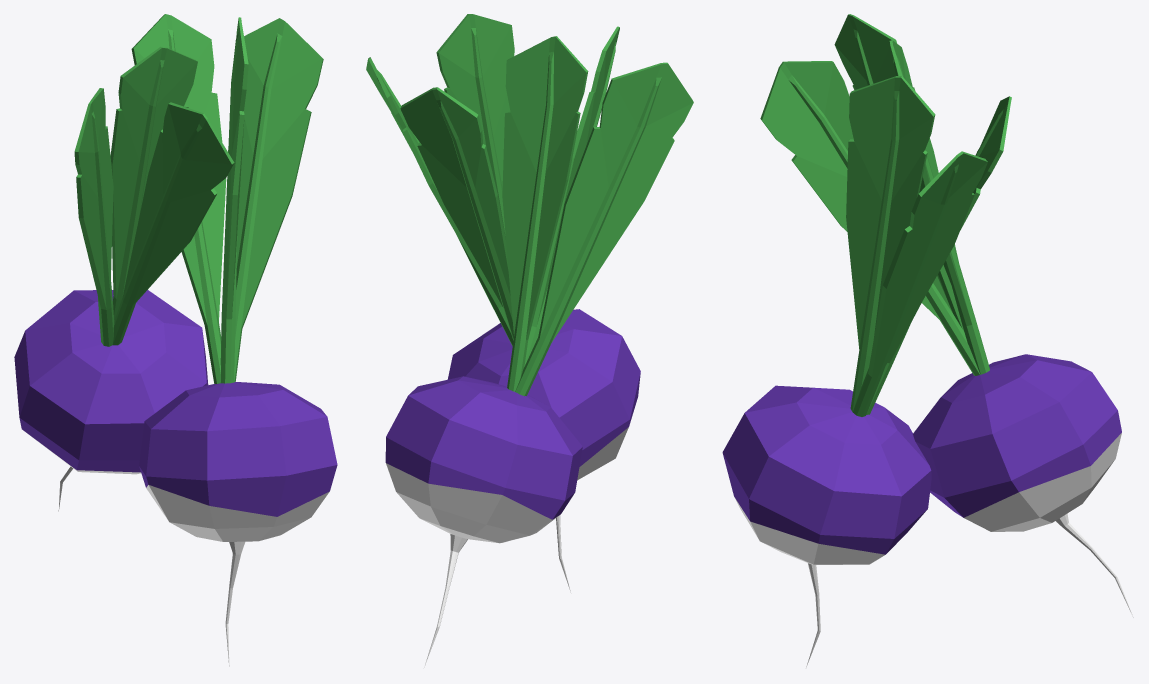
Rendered from turnip.glb.
The picture shows the model from 3 angles, left to right: view 1: azimuth 30°, elevation 25°; view 2: azimuth 150°, elevation 25°; view 3: azimuth 270°, elevation 25°; orthographic projection. The views are drawn at different scales.
Parts seen in each view (by area): view 1: Turnip_Circle.025; view 2: Turnip_Circle.025; view 3: Turnip_Circle.025.
Boxes of the visible parts, x1=… form: Turnip_Circle.025: x1=14, y1=14, x2=337, y2=666; Turnip_Circle.025: x1=366, y1=14, x2=693, y2=667; Turnip_Circle.025: x1=722, y1=14, x2=1133, y2=667.
Bounding box in the file's own units: 5.81 × 11.59 × 6.96.
